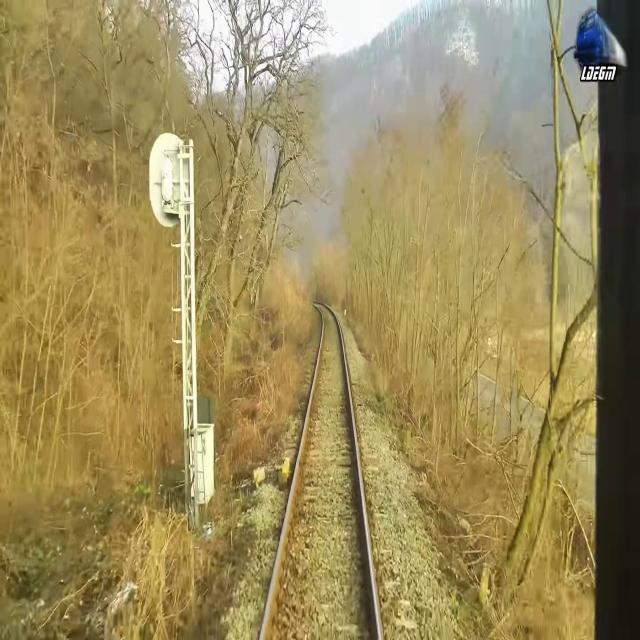rail-track: (263, 303, 377, 639)
